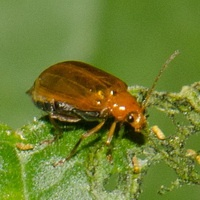insect: (27, 51, 178, 164)
